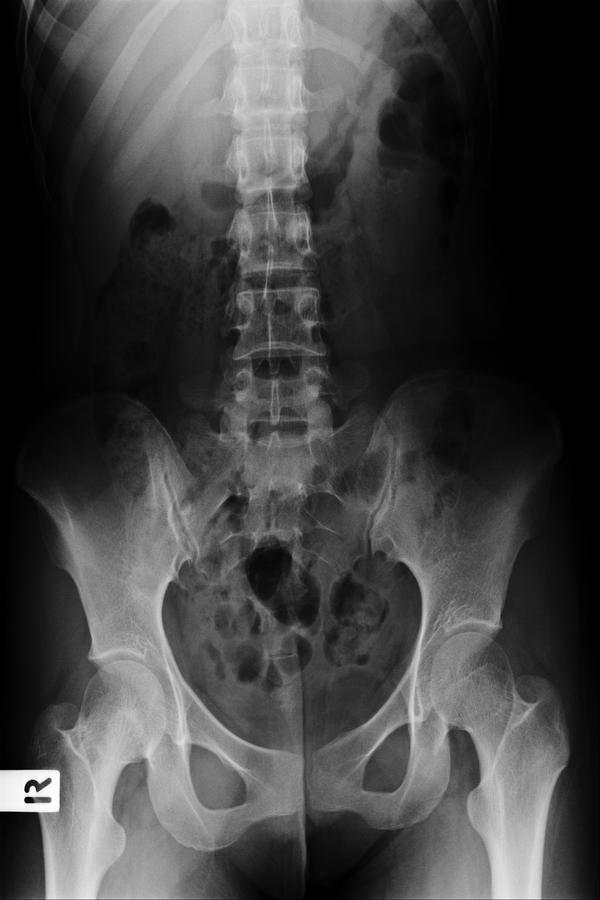not lumbar scoliosis: (217, 173, 346, 498)
